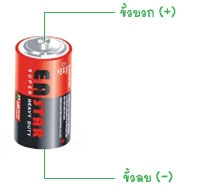Battery: (11, 33, 73, 151)
